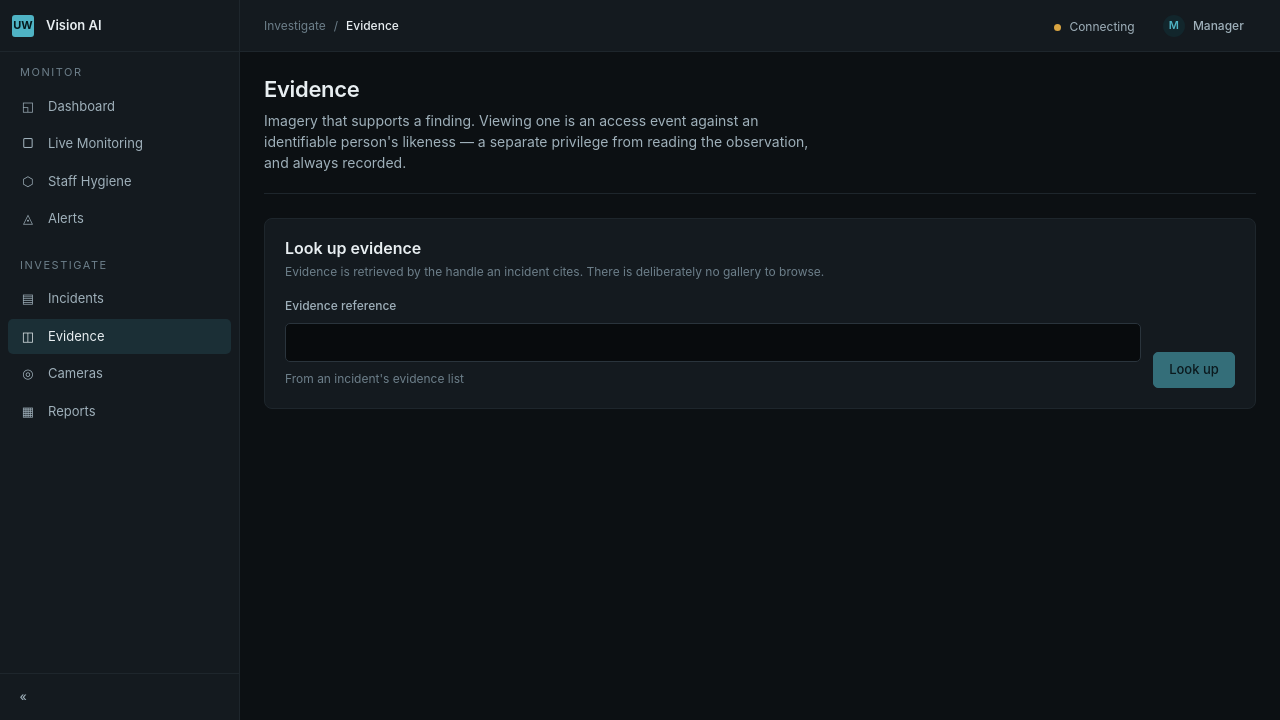
Test: the evidence page › keeps the tombstone visible after erasure
In the field labelled "Evidence reference": (713, 342) [285,323,1141,362], type "ev-1"
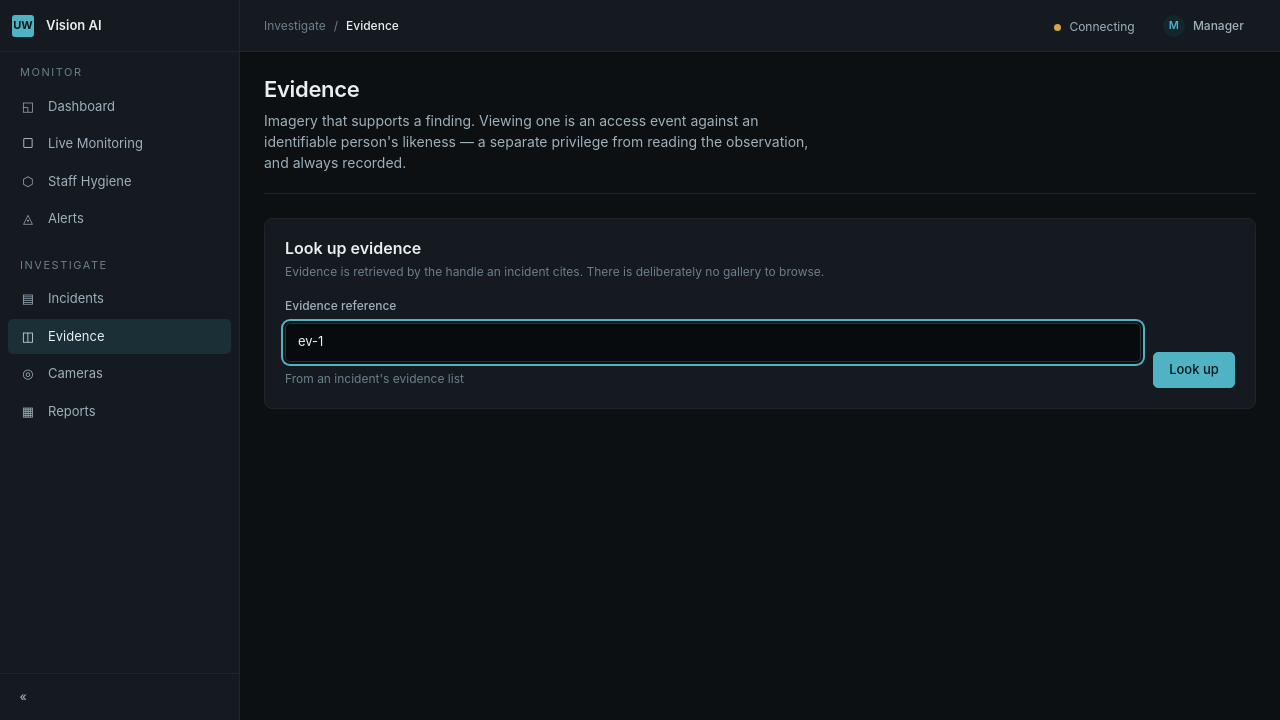
Click the button "Look up": (1194, 370) [1153,352,1235,388]
(page scrolled)
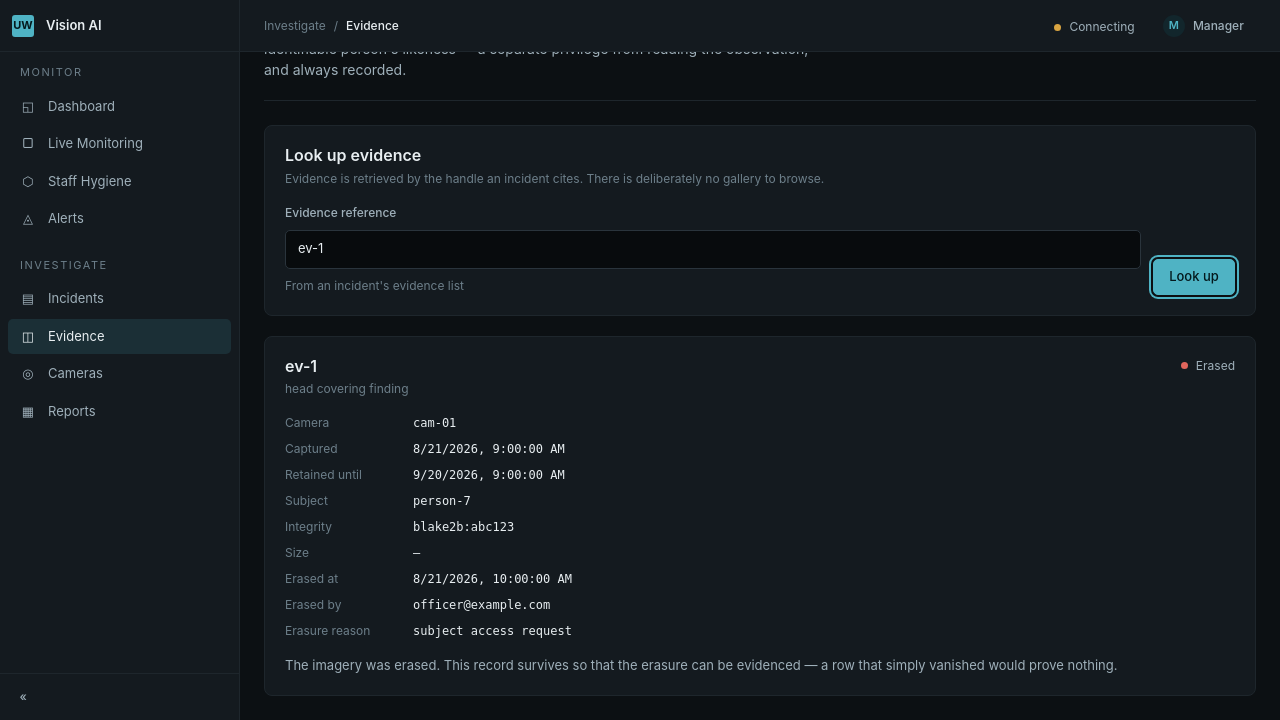
Expected: the text "Erased" is shown, [1181,357,1235,375]
Expected: the text "officer@example.com" is shown, [413,598,550,612]
Expected: the text "subject access request" is shown, [413,624,572,638]
